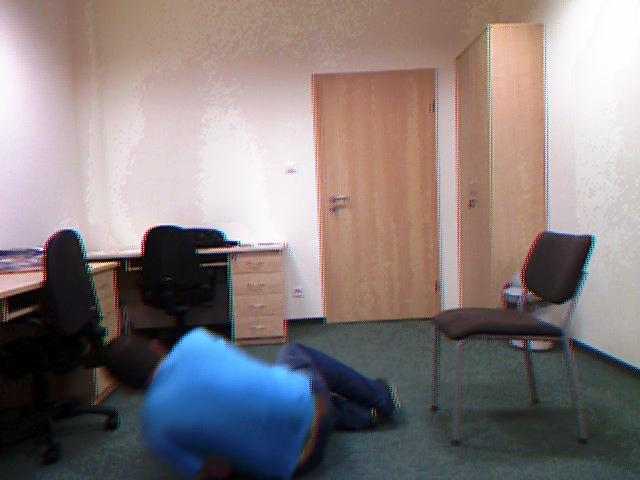fall: (94, 317, 419, 480)
